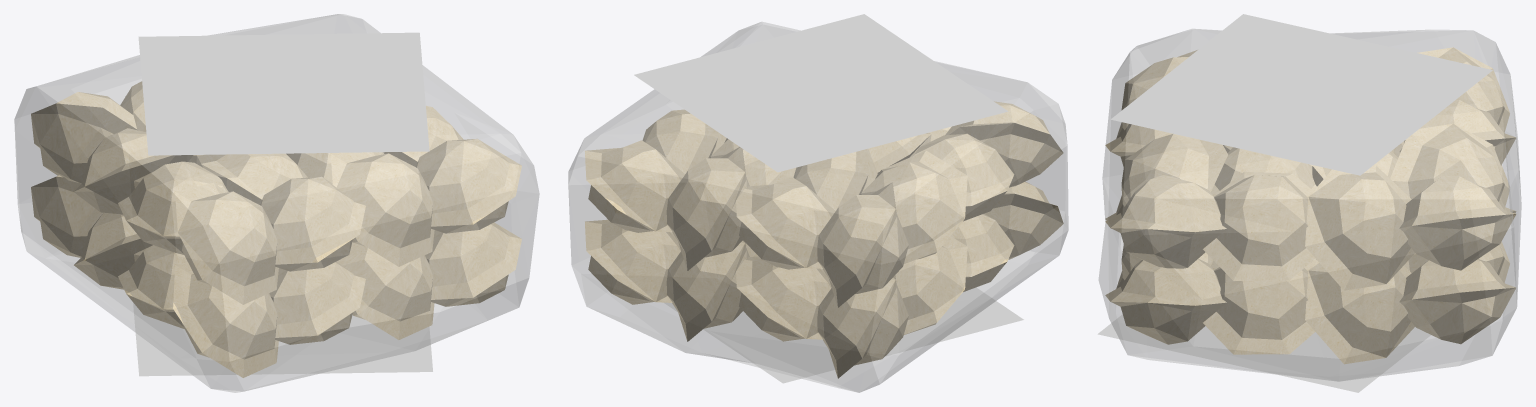
The model's file is PelmeniPackBASE.fbx.
The picture shows the model from 3 angles, left to right: view 1: azimuth 30°, elevation 25°; view 2: azimuth 150°, elevation 25°; view 3: azimuth 270°, elevation 25°; orthographic projection. The views are drawn at different scales.
Visible parts, largest first — view 1: PelmeniPackBase, Pelmen.026, logo, logo.001; view 2: PelmeniPackBase, Pelmen.026, logo, logo.001; view 3: PelmeniPackBase, Pelmen.026, logo, logo.001.
Part boxes in pixels (box(x1,y1,x2,y2)): PelmeniPackBase: box(14, 14, 539, 392); Pelmen.026: box(31, 81, 521, 377); logo: box(138, 32, 429, 155); logo.001: box(133, 302, 432, 376); PelmeniPackBase: box(568, 21, 1068, 392); Pelmen.026: box(585, 101, 1063, 378); logo: box(634, 14, 1008, 172); logo.001: box(664, 287, 1023, 383); PelmeniPackBase: box(1098, 28, 1521, 381); Pelmen.026: box(1105, 47, 1516, 364); logo: box(1111, 14, 1492, 175); logo.001: box(1097, 314, 1430, 392).
Bounding box in the file's own units: 0.9292 × 0.5321 × 0.9469.
3 materials, 1 textured.
